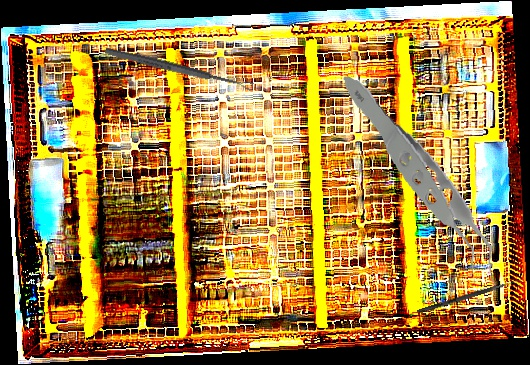Hook Surgical: (416, 276, 524, 315)
Surgical Spoon: (104, 45, 254, 93)
Tissue Forceps: (340, 62, 498, 301)
